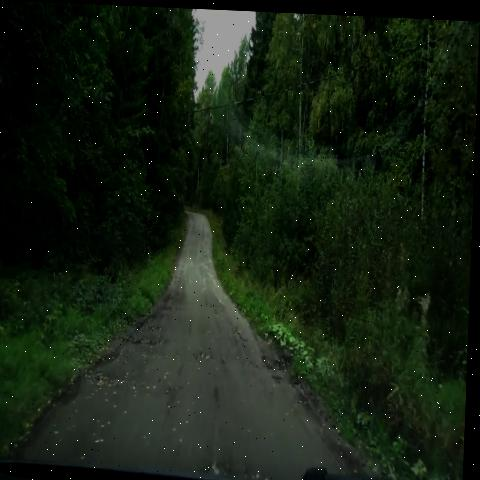pothole: (85, 355, 141, 399), (257, 343, 299, 395), (127, 322, 169, 355), (186, 339, 228, 372), (153, 286, 183, 323)
